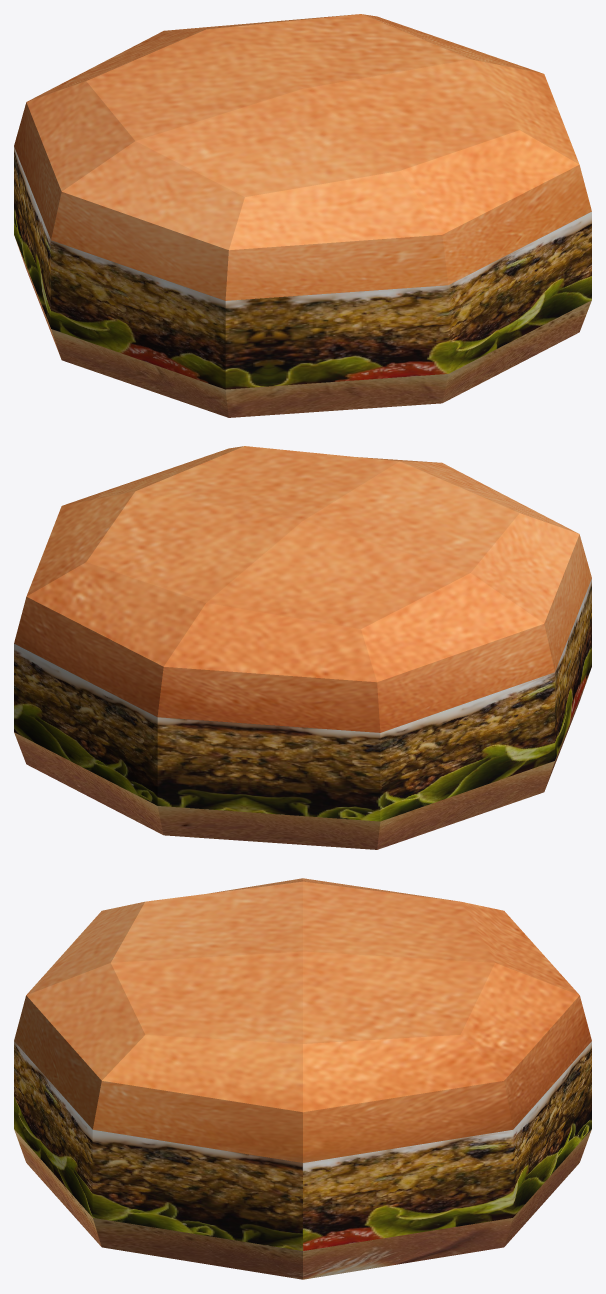
The model's file is burger.glb.
The picture shows the model from 3 angles, top to bottom: view 1: azimuth 30°, elevation 25°; view 2: azimuth 150°, elevation 25°; view 3: azimuth 270°, elevation 25°; orthographic projection.
Parts seen in each view (by area): view 1: Object_2; view 2: Object_2; view 3: Object_2.
Part boxes in pixels (<box>): Object_2: <box>14,14,591,417</box>; Object_2: <box>14,446,591,849</box>; Object_2: <box>14,878,591,1279</box>.
Size of the model in its own units: 1.83 by 0.7673 by 1.83.
1 material, 1 textured.
